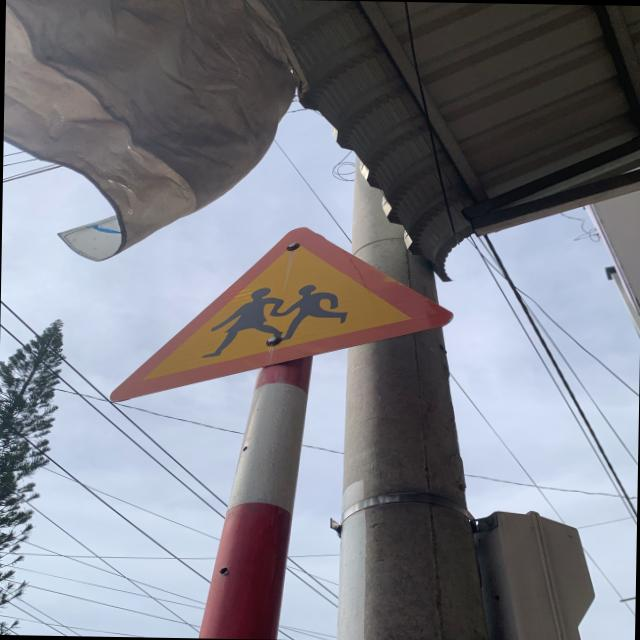Vong_Xuyen: (111, 223, 451, 410)
